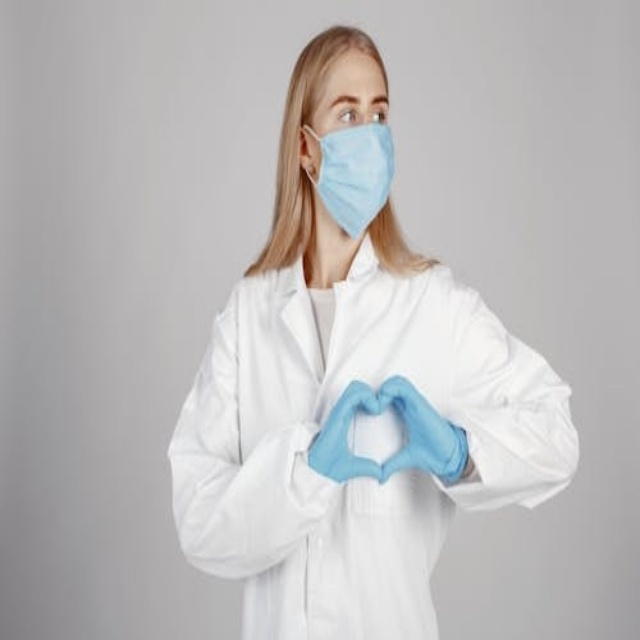Guantes: (374, 376, 469, 486), (306, 377, 375, 486)
Mascara: (304, 120, 394, 237)
Sin_gafas: (328, 106, 386, 126)
